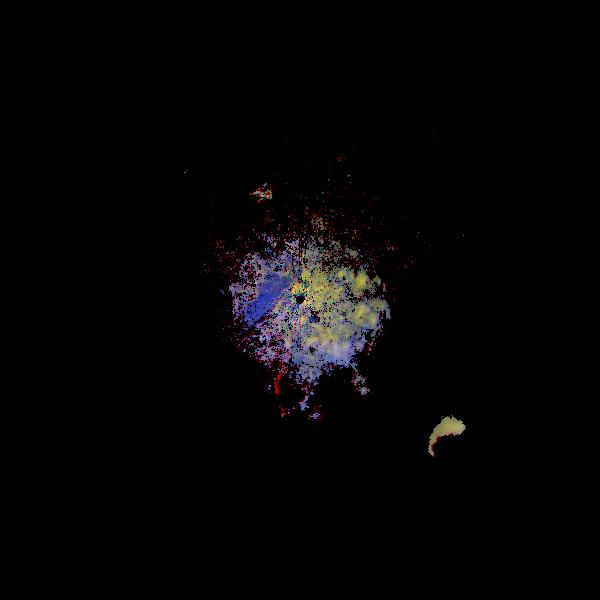roost: (263, 357, 335, 429), (233, 147, 293, 207), (423, 416, 480, 473)
